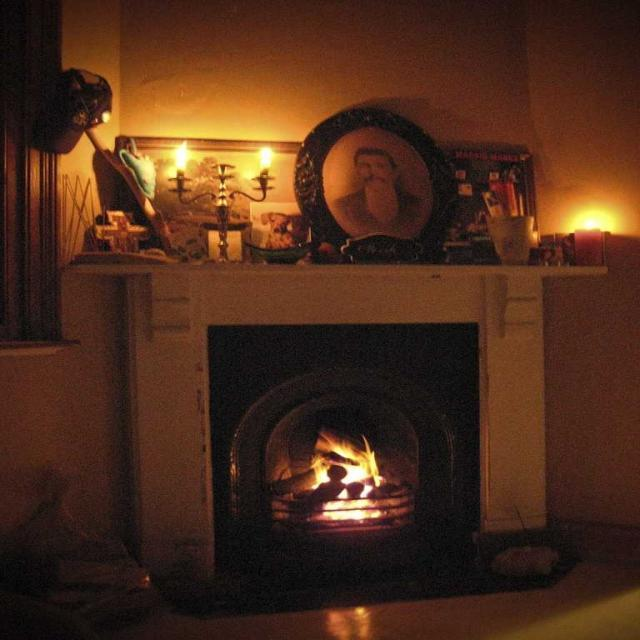Fire: (564, 212, 624, 230), (346, 458, 371, 494)
